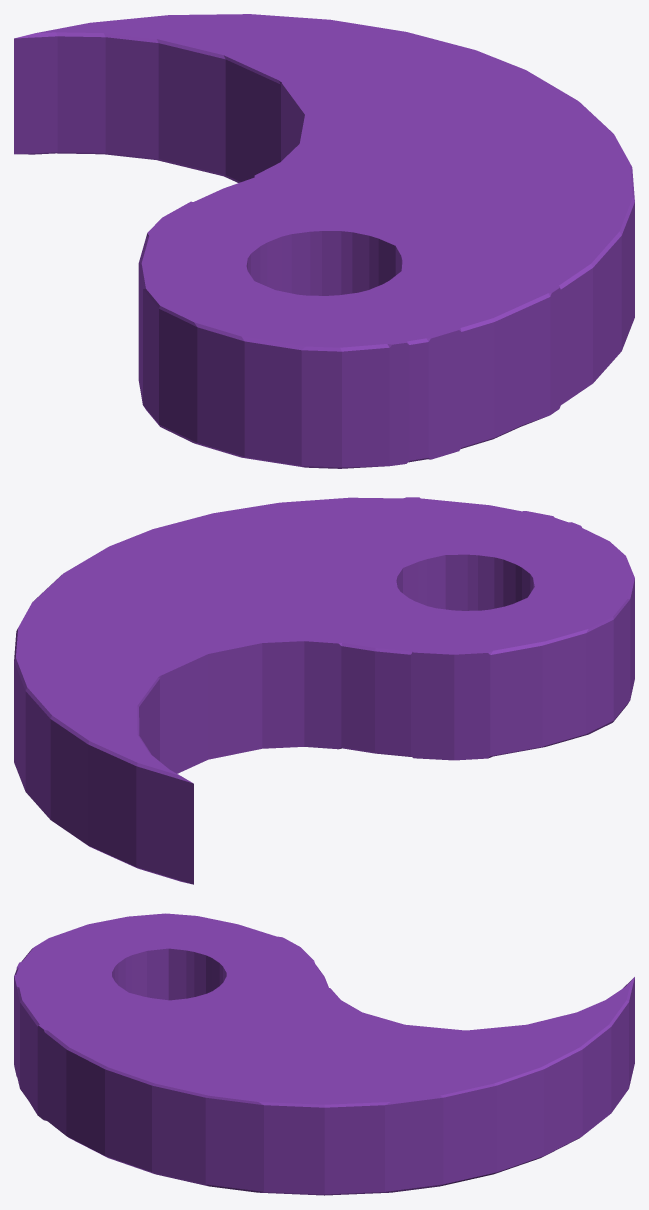
The model's file is HookJade.fbx.
3 views of the same model, one above another, from view 1: azimuth 30°, elevation 25°; view 2: azimuth 150°, elevation 25°; view 3: azimuth 270°, elevation 25° (orthographic). The views are drawn at different scales.
Visible parts, largest first — view 1: HookJade; view 2: HookJade; view 3: HookJade.
Part boxes in pixels (<box>): HookJade: <box>14,14,634,468</box>; HookJade: <box>14,497,634,884</box>; HookJade: <box>14,913,634,1195</box>.
Bounding box in the file's own units: 272 × 59.73 × 370.
